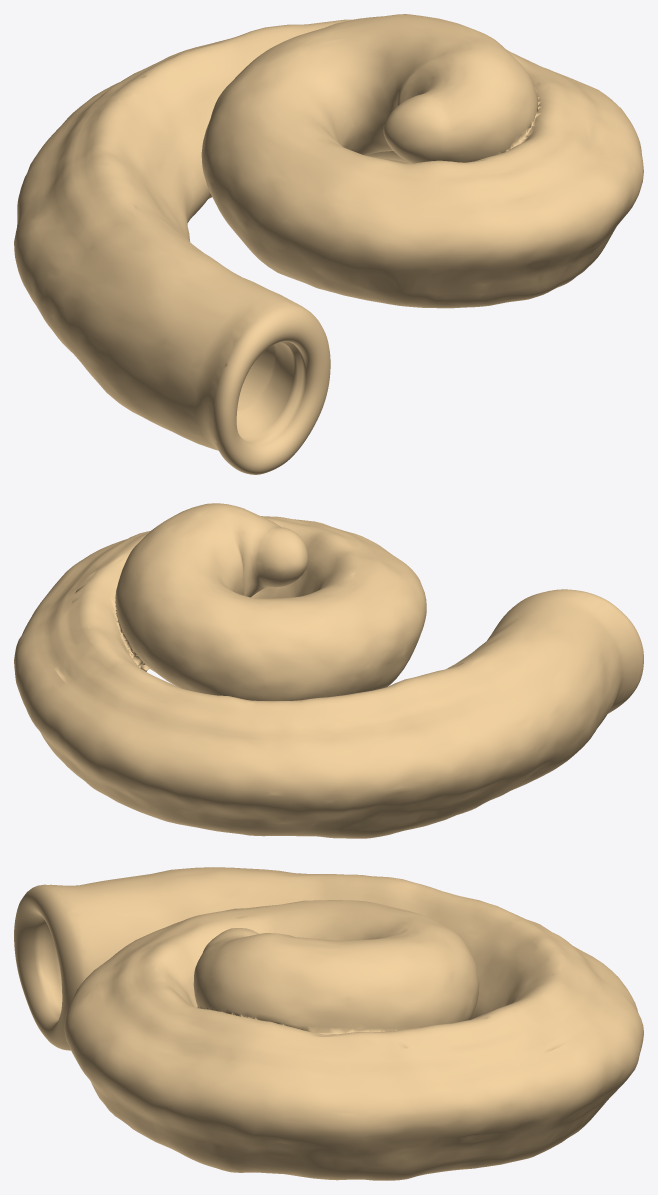
Rendered from vaquita_cochlea.glb.
3 views of the same model, one above another, from view 1: azimuth 30°, elevation 25°; view 2: azimuth 150°, elevation 25°; view 3: azimuth 270°, elevation 25° (orthographic). The views are drawn at different scales.
Visible parts, largest first — view 1: Phocoena_sinus_Cochlea_Hollow; view 2: Phocoena_sinus_Cochlea_Hollow; view 3: Phocoena_sinus_Cochlea_Hollow.
Part boxes in pixels (left/top/right/bottom): Phocoena_sinus_Cochlea_Hollow: left=14, top=14, right=643, bottom=474; Phocoena_sinus_Cochlea_Hollow: left=14, top=503, right=643, bottom=838; Phocoena_sinus_Cochlea_Hollow: left=14, top=867, right=643, bottom=1180.
Size of the model in its own units: 9.26 by 4.05 by 9.26.
